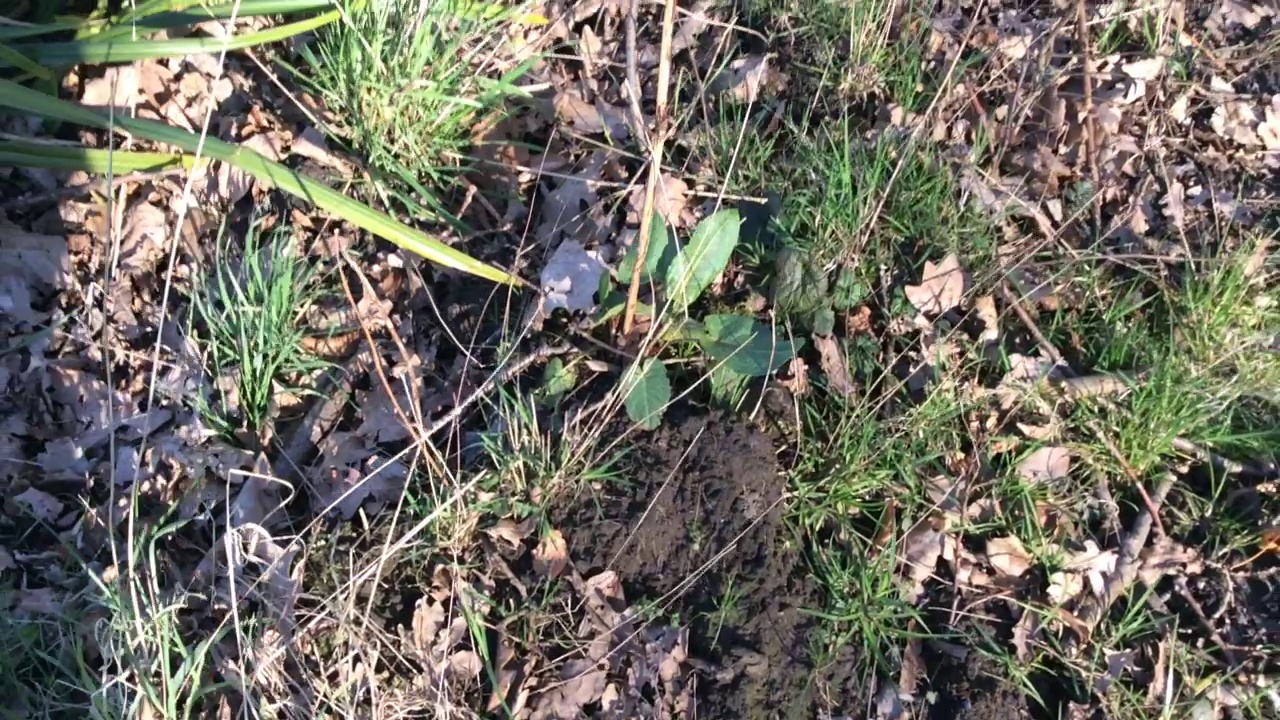rumex: (544, 210, 806, 433)
